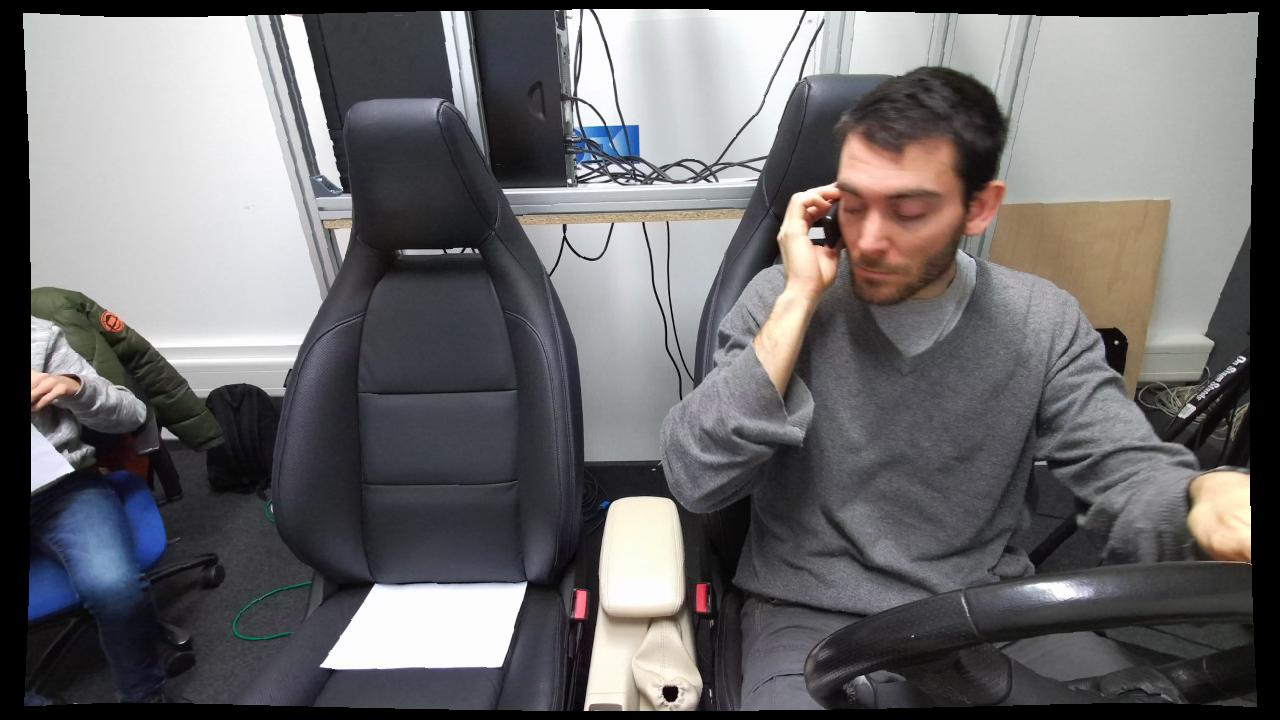Distracted: (745, 75, 1118, 697)
PhoneUse: (788, 179, 847, 264)
